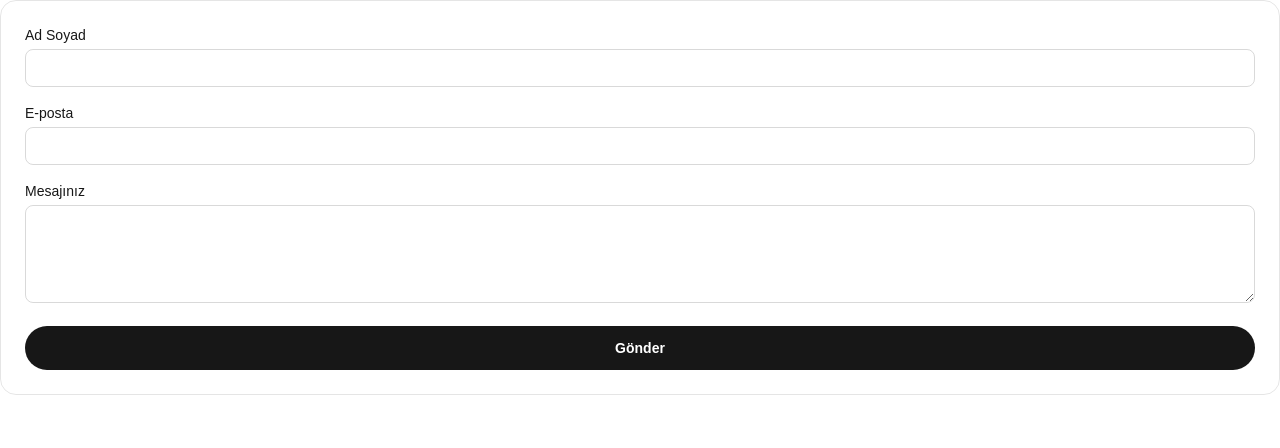
Test: ContactForm (emailEnabled) › hata sonucunda action'dan gelen mesajı gösterir
Type "Ayşe Yılmaz" into the field labelled "Ad Soyad".
click(640, 68); type("Ayşe Yılmaz")  # box [25, 49, 1255, 87]
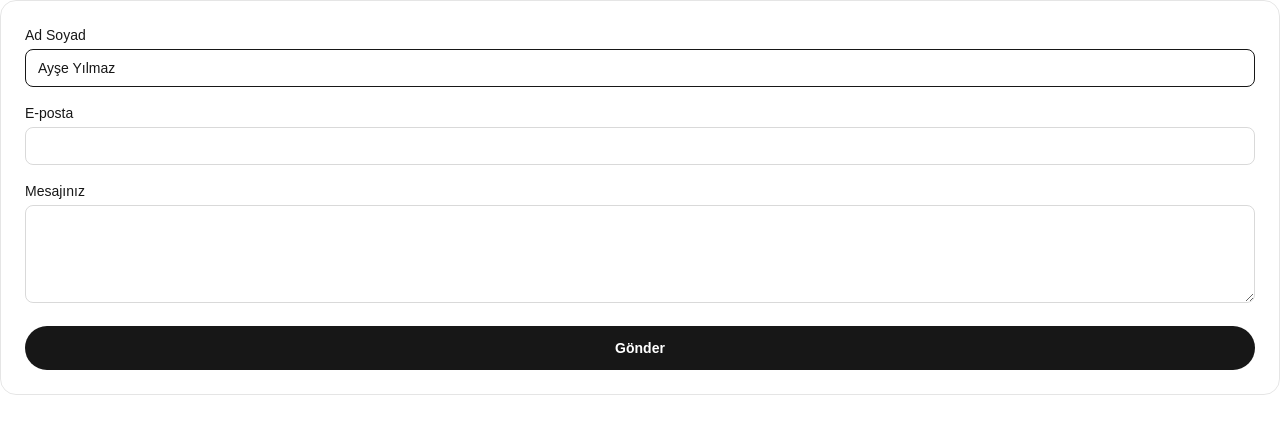
Type "ayse@example.com" into the field labelled "E-posta".
click(640, 146); type("ayse@example.com")  # box [25, 127, 1255, 165]
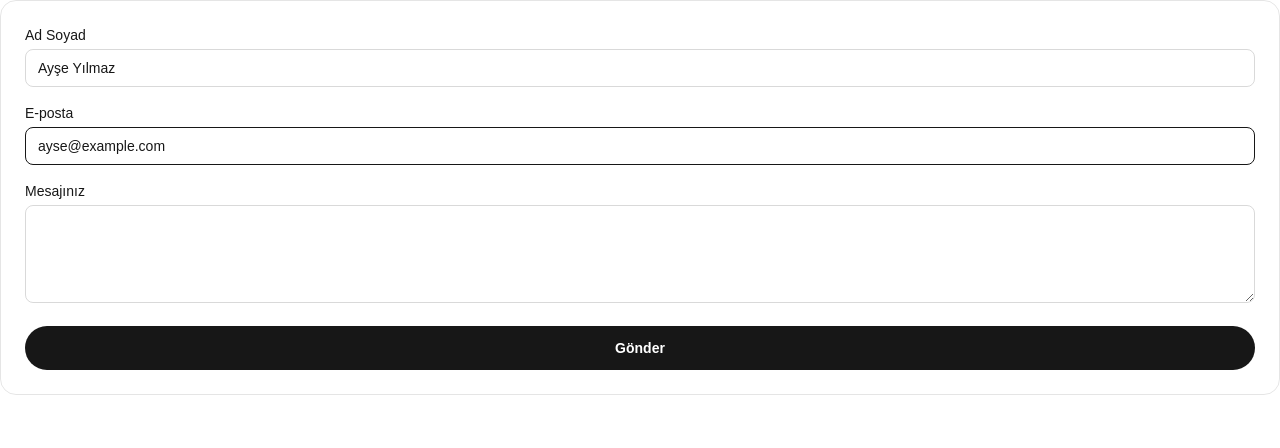
Type "Üyelik hakkında bilgi almak istiyorum." into the text box labelled "Mesajınız".
click(640, 254); type("Üyelik hakkında bilgi almak istiyorum.")  # box [25, 205, 1255, 303]
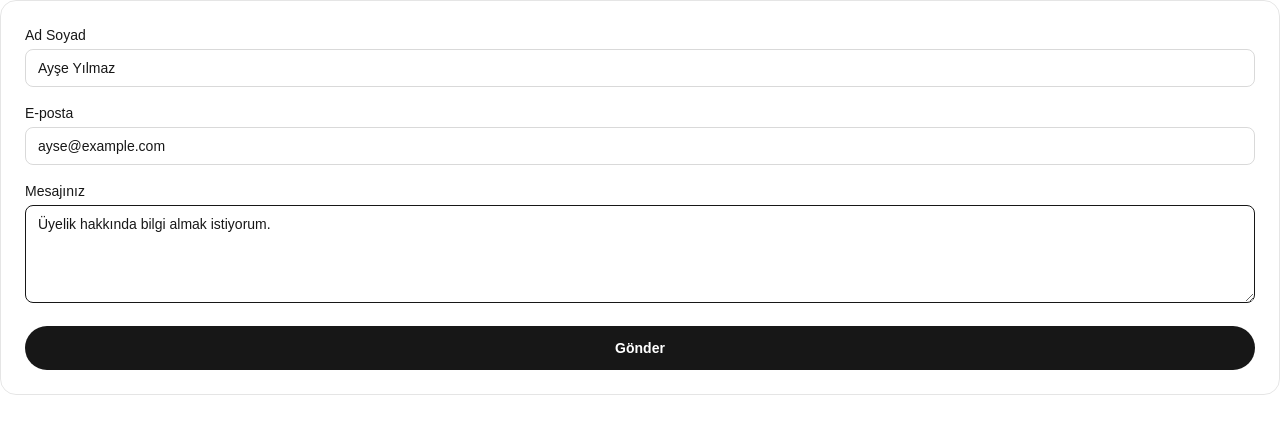
Click the button "Gönder".
click(640, 348)  # box [25, 326, 1255, 370]
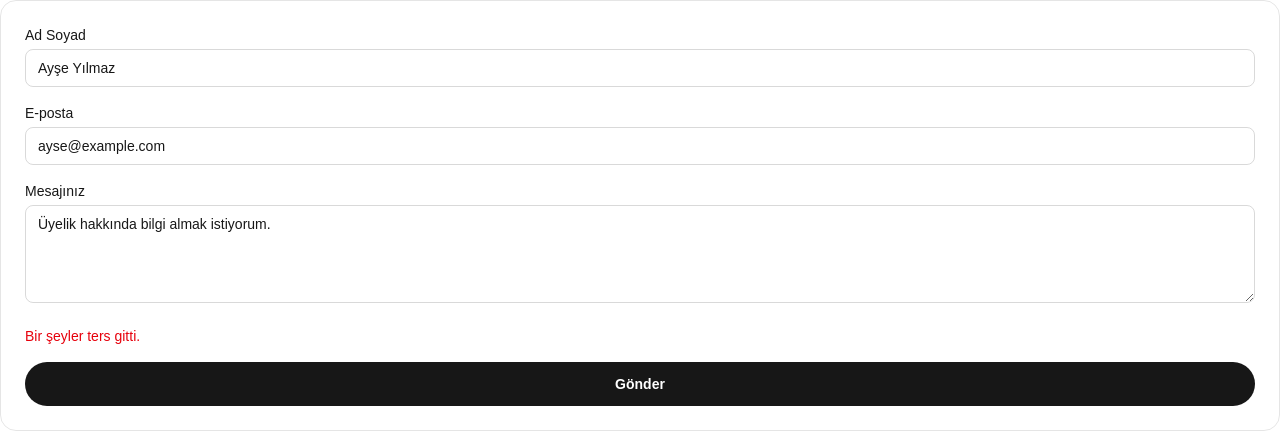
Expected: the message reads "Bir şeyler ters gitti.", [25, 328, 140, 344]
